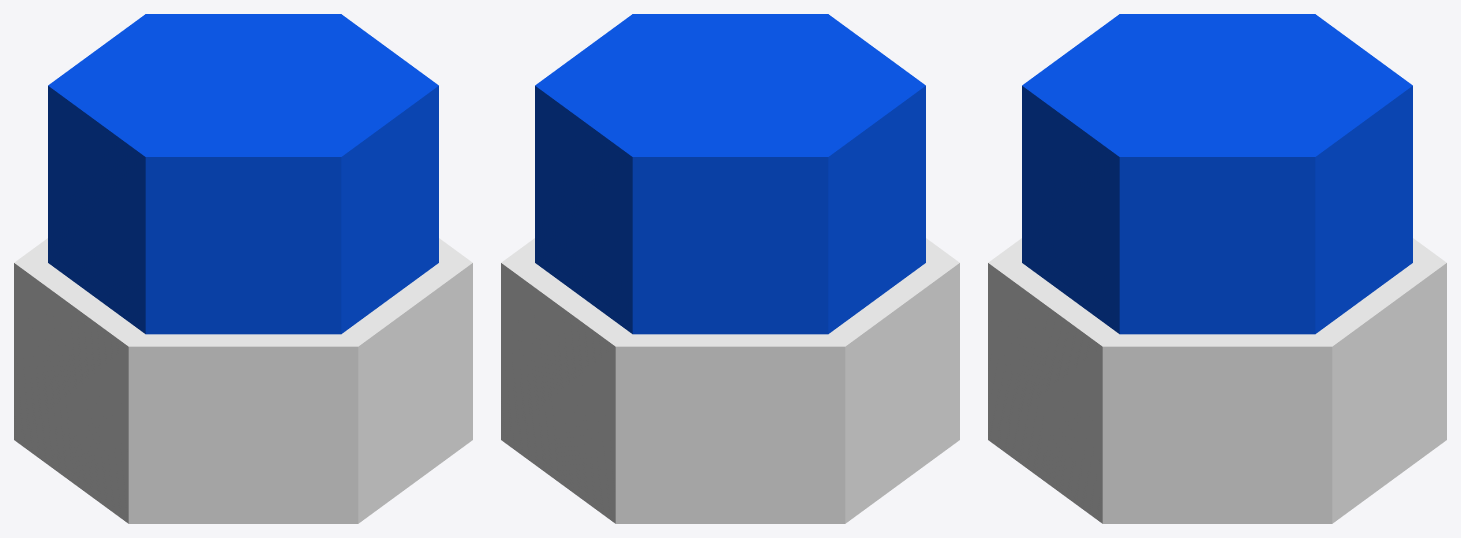
Rendered from HexCellWaterShallow.fbx.
3 renders of one model, left to right at view 1: azimuth 30°, elevation 25°; view 2: azimuth 150°, elevation 25°; view 3: azimuth 270°, elevation 25°, orthographic.
Parts seen in each view (by area): view 1: Circle; view 2: Circle; view 3: Circle.
Part boxes in pixels (bbox=[...]): Circle: bbox=[14, 14, 472, 523]; Circle: bbox=[501, 14, 959, 523]; Circle: bbox=[988, 14, 1446, 523].
Bounding box in the file's own units: 203 × 200 × 235.
